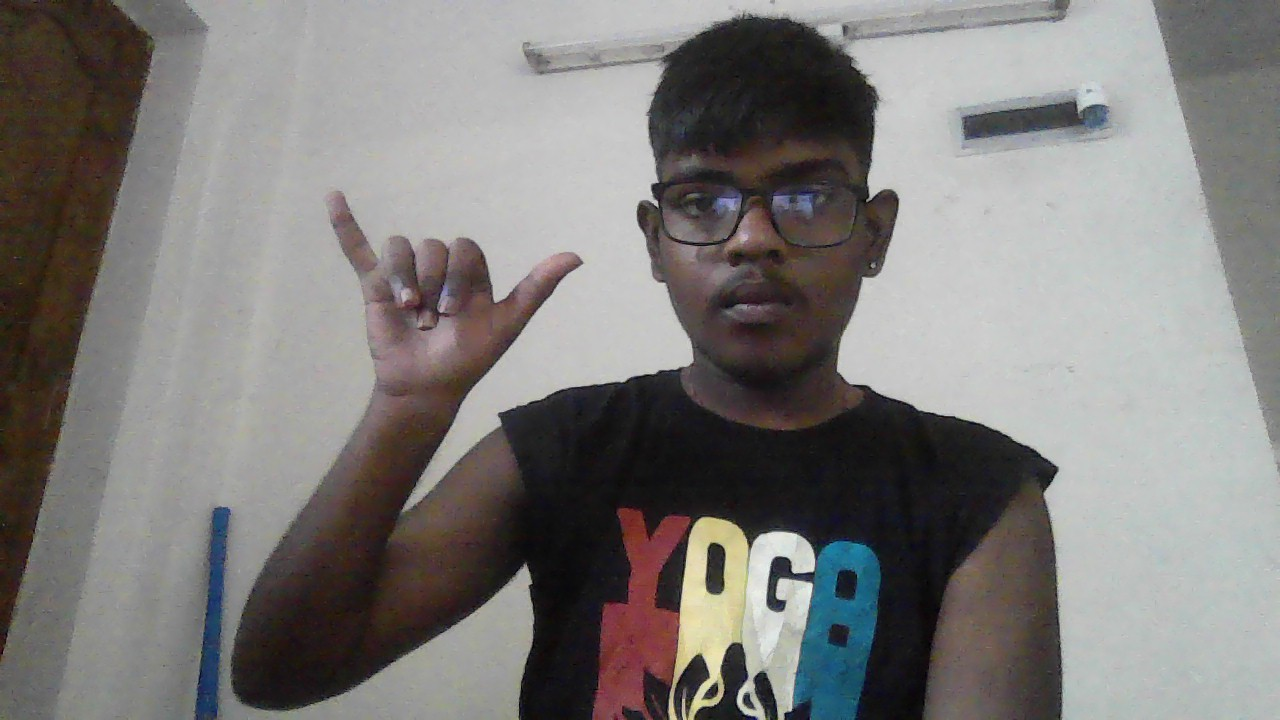Y: (323, 189, 583, 397)
